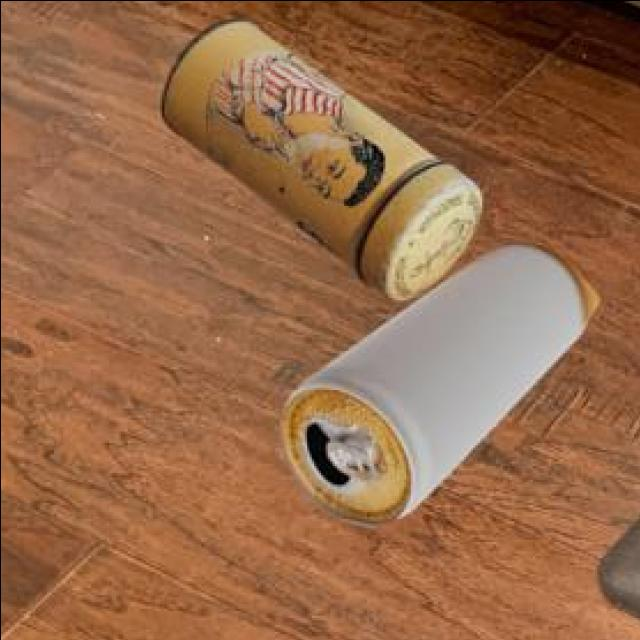logam: (158, 15, 478, 296), (277, 241, 595, 521)
